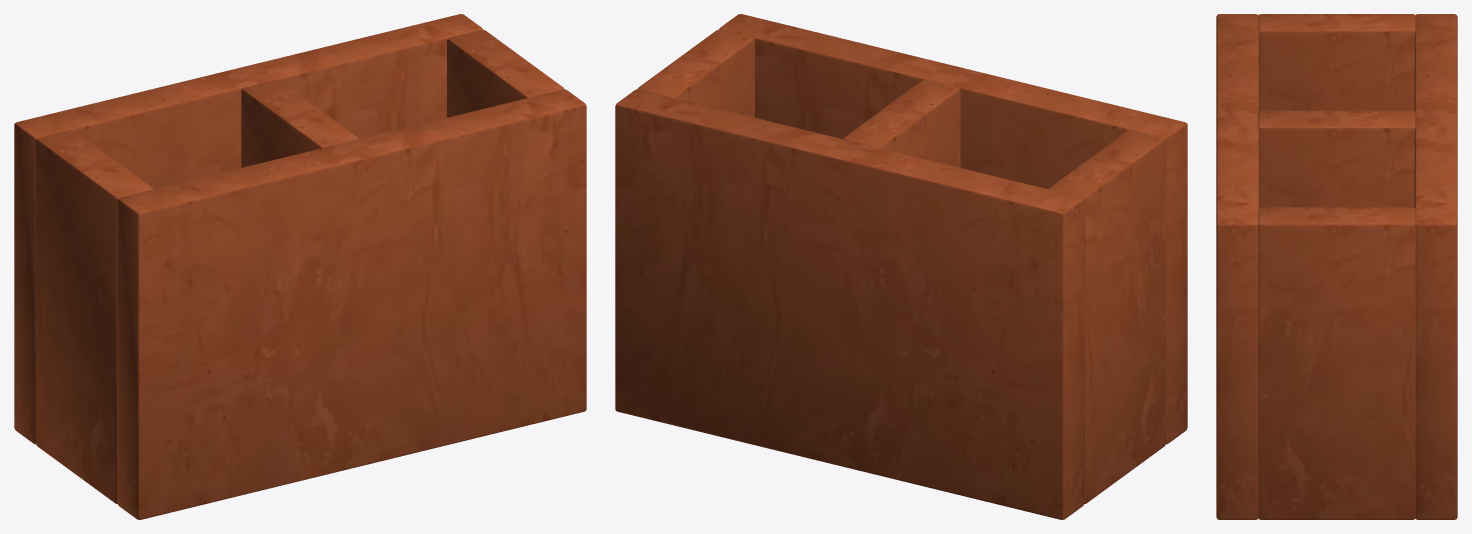
The model's file is ALV-BLC-006.glb.
The picture shows the model from 3 angles, left to right: view 1: azimuth 30°, elevation 25°; view 2: azimuth 150°, elevation 25°; view 3: azimuth 270°, elevation 25°; orthographic projection. The views are drawn at different scales.
Parts seen in each view (by area): view 1: ALV-BLC-006_pf1, ALV-BLC-006_pf2, ALV-BLC-006_t0, ALV-BLC-006_t1, ALV-BLC-006_t2; view 2: ALV-BLC-006_pf2, ALV-BLC-006_pf1, ALV-BLC-006_t0, ALV-BLC-006_t1, ALV-BLC-006_t2; view 3: ALV-BLC-006_t2, ALV-BLC-006_pf1, ALV-BLC-006_pf2, ALV-BLC-006_t1, ALV-BLC-006_t0.
Boxes of the visible parts, x1,y1,x2,y2 form: ALV-BLC-006_pf1: [117, 89, 586, 519]; ALV-BLC-006_pf2: [14, 14, 482, 444]; ALV-BLC-006_t0: [35, 130, 152, 503]; ALV-BLC-006_t1: [241, 80, 358, 167]; ALV-BLC-006_t2: [447, 29, 564, 117]; ALV-BLC-006_pf2: [615, 89, 1084, 519]; ALV-BLC-006_pf1: [719, 14, 1187, 444]; ALV-BLC-006_t0: [1049, 130, 1166, 503]; ALV-BLC-006_t1: [843, 80, 960, 167]; ALV-BLC-006_t2: [637, 29, 754, 117]; ALV-BLC-006_t2: [1258, 207, 1415, 519]; ALV-BLC-006_pf1: [1216, 14, 1259, 519]; ALV-BLC-006_pf2: [1414, 14, 1457, 519]; ALV-BLC-006_t1: [1258, 110, 1415, 207]; ALV-BLC-006_t0: [1258, 14, 1415, 110].
Bounding box in the file's own units: 0.29 × 0.19 × 0.14.
Materials: 1 (1 with a texture image).
